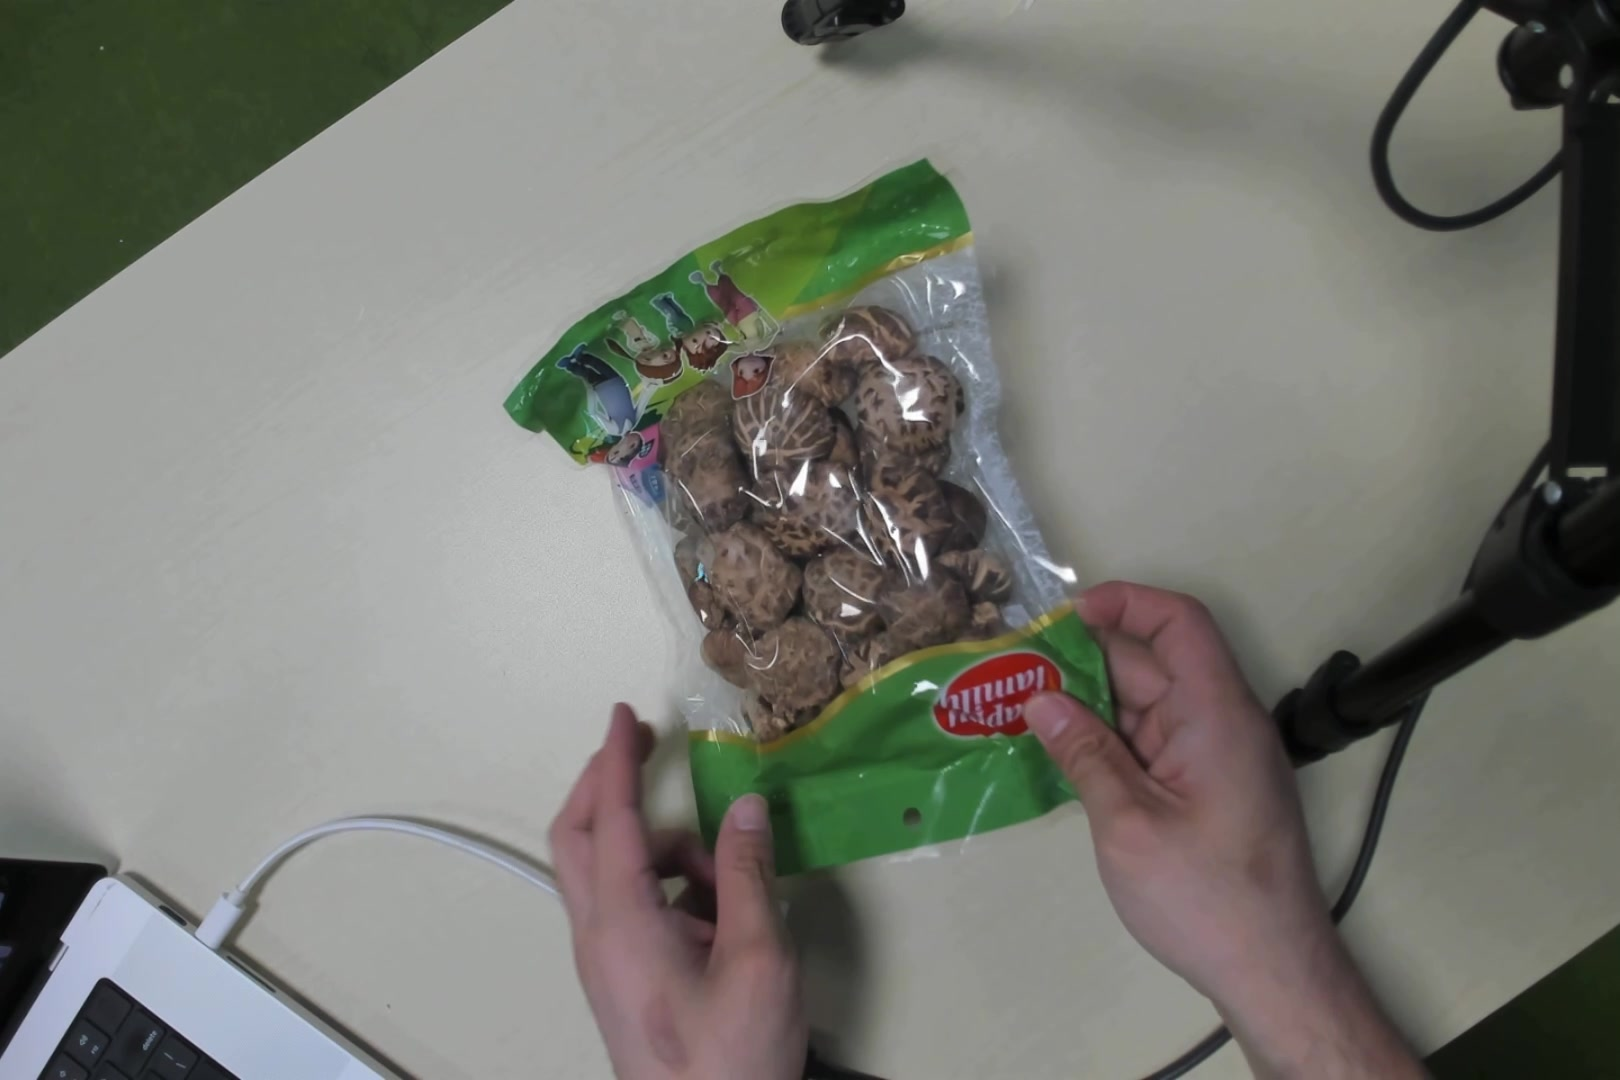OtherDriedFood_100-199g_NonHalal_NonHealthy: (583, 180, 1117, 862)
